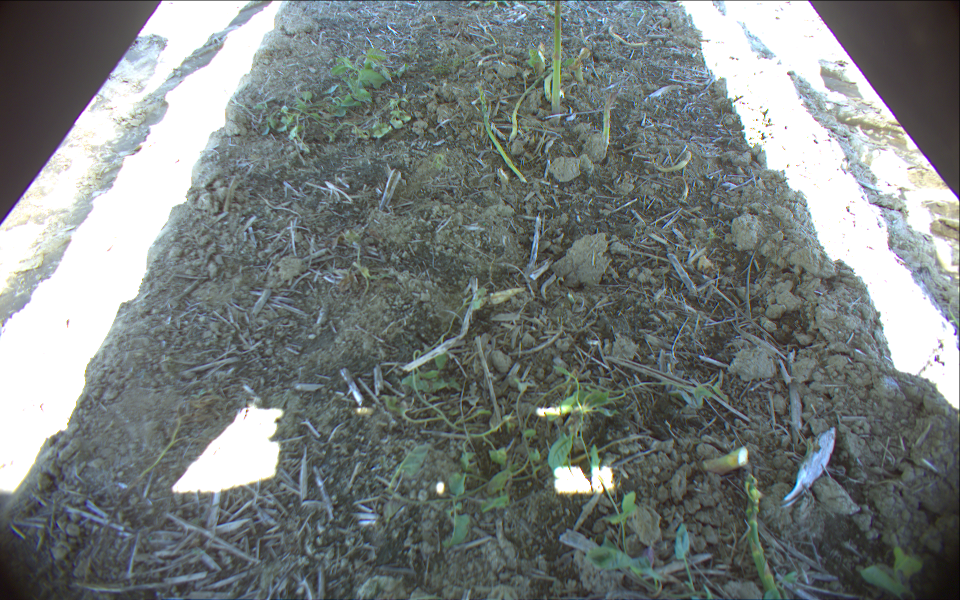aspa: (547, 1, 567, 120), (599, 89, 617, 149)
